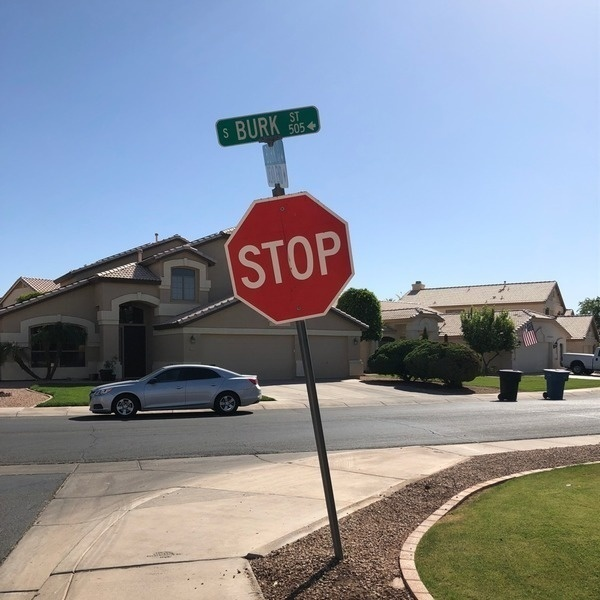stop: (227, 196, 353, 317)
